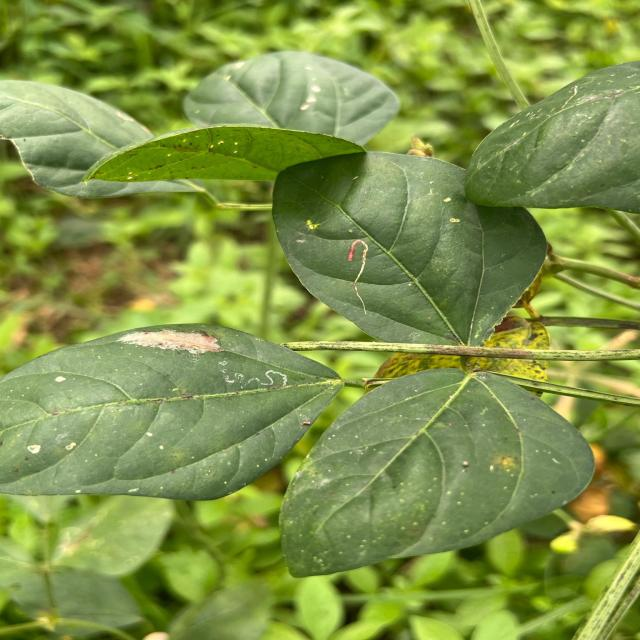sitaw-aphid-high: (281, 354, 593, 577), (0, 324, 336, 500), (273, 152, 547, 346)
